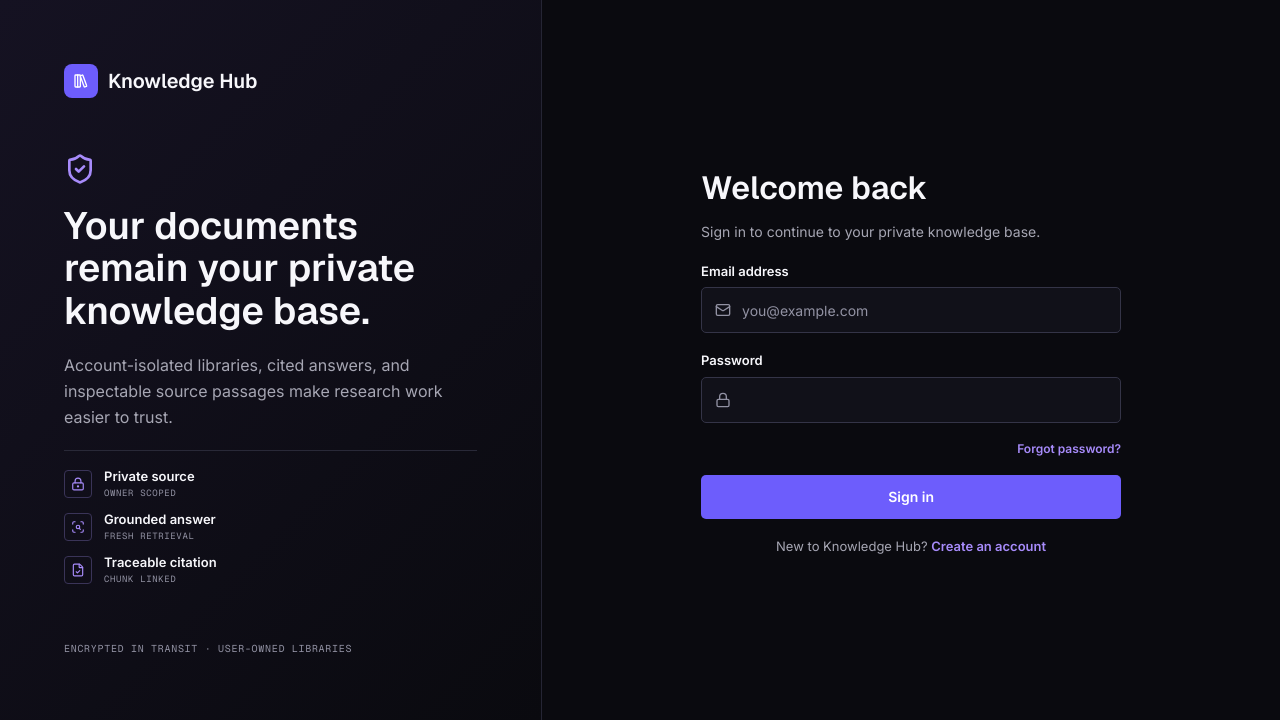
Test: login › validates credentials, signs in, and enters the protected workspace
This screenshot has width=1280, height=720.
Click the button "Sign in": click(911, 497) [701,475,1121,519]
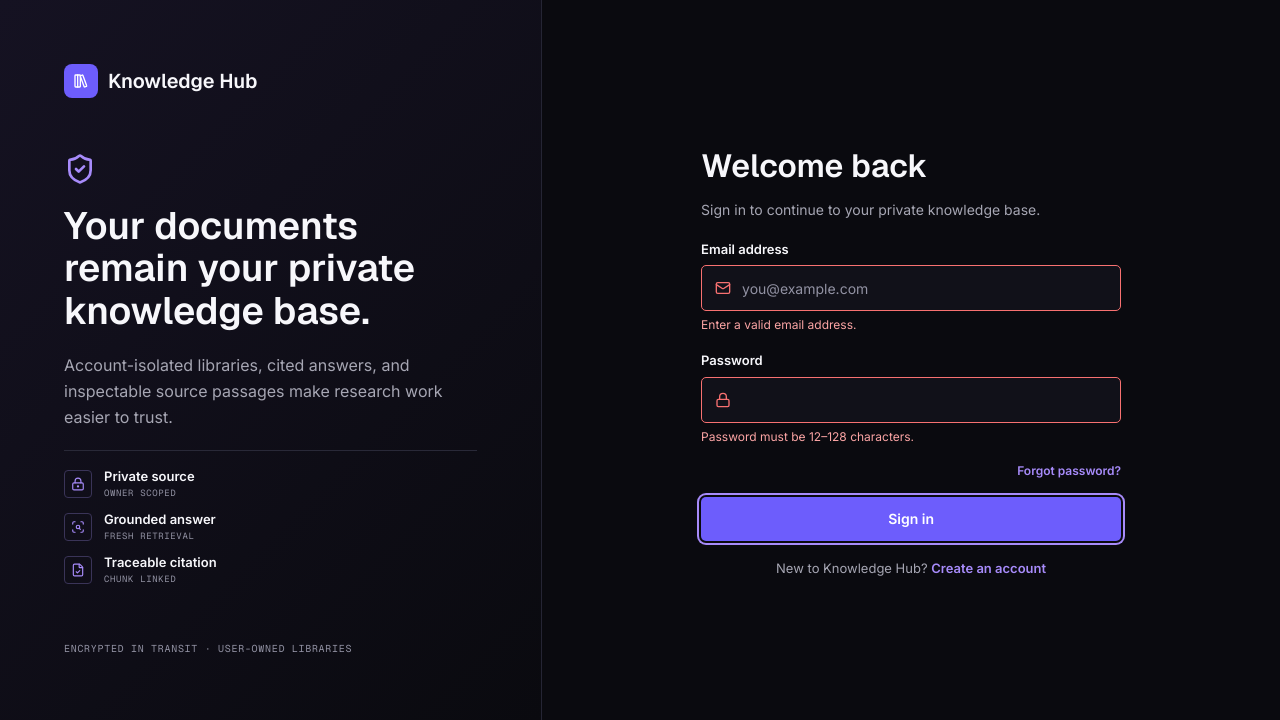
Now the text "Enter a valid email address." is shown, box [701,317,856,332]
In the field labelled "Email address": (911, 288) [701,265,1121,311], type "ada@example.com"
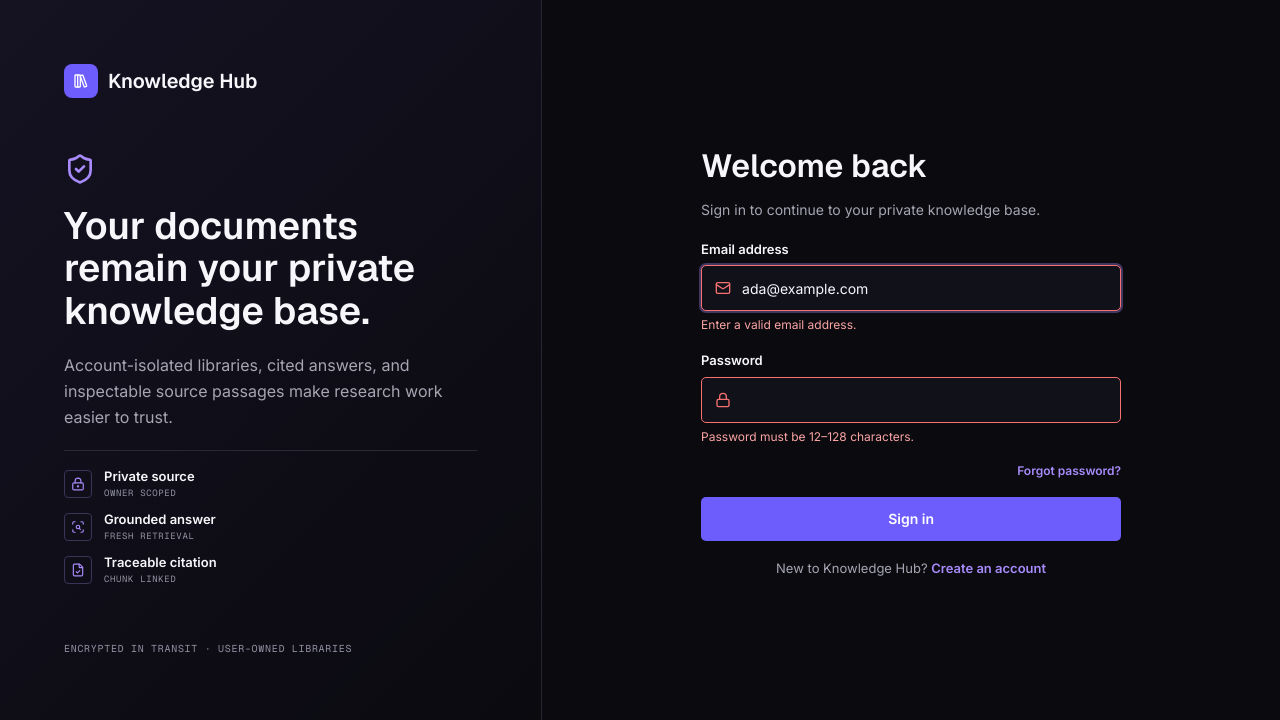
In the password field labelled "Password": (911, 400) [701,377,1121,423], type "correct-horse-battery"
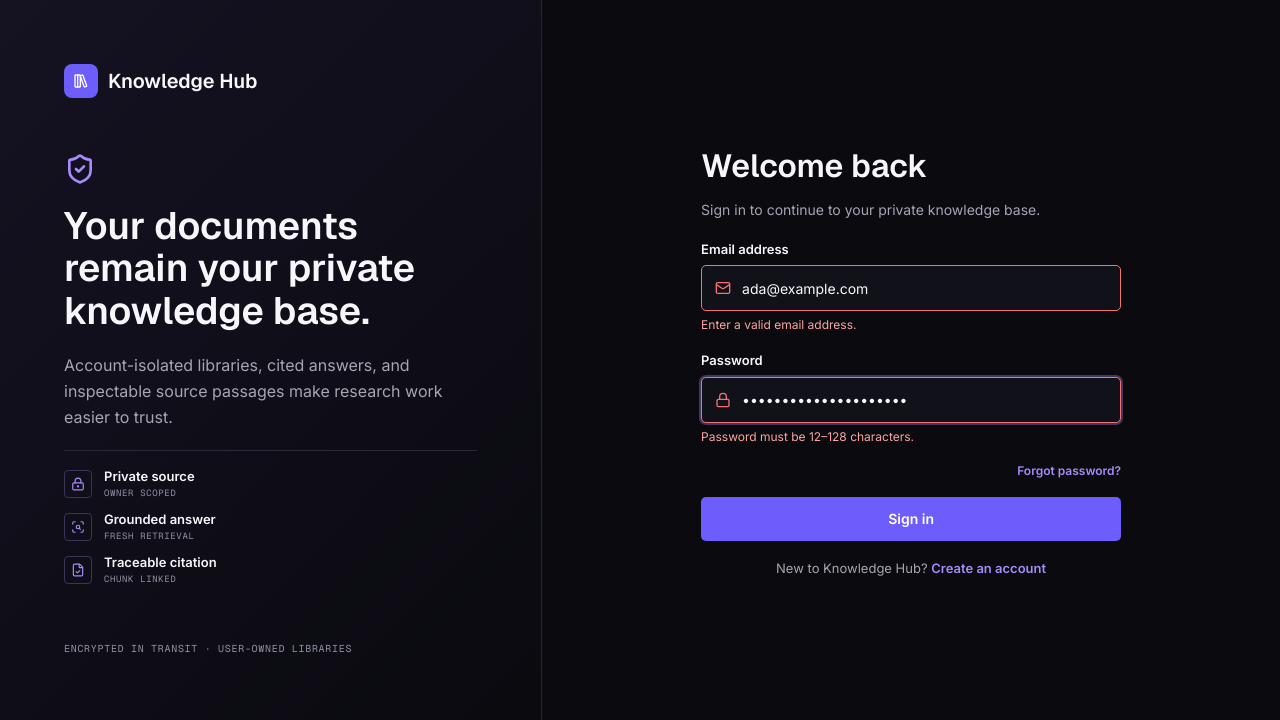
Click the button "Sign in": click(911, 519) [701,497,1121,541]
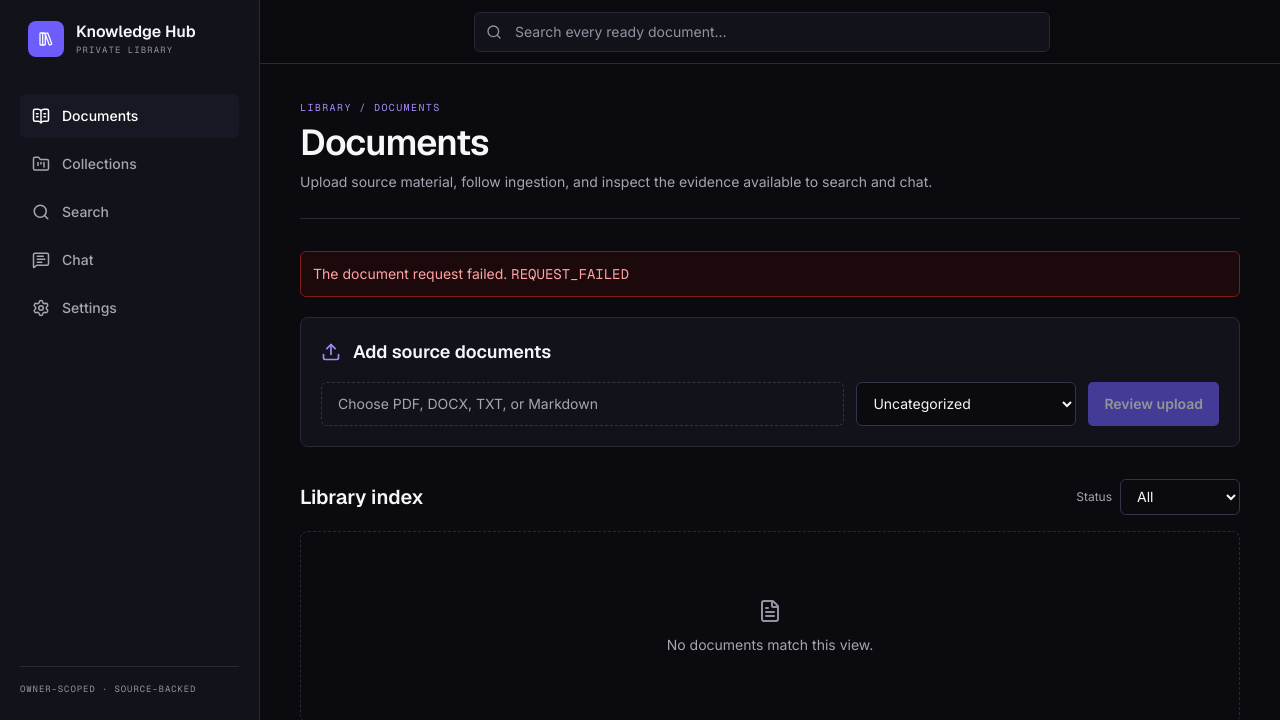
Now the heading "Documents" is shown, box [300,119,489,166]
